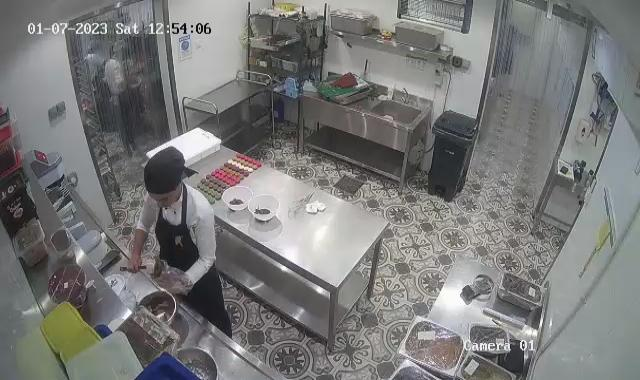no_hairnet: (142, 146, 184, 202)
